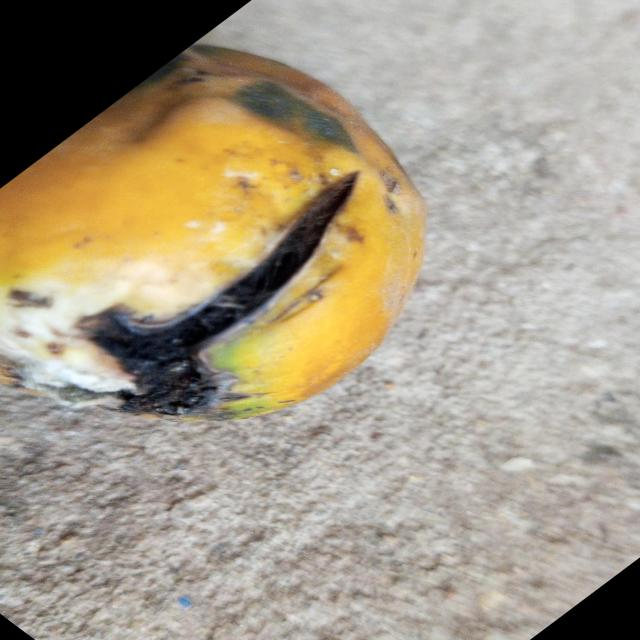damaged: (0, 45, 427, 421)
